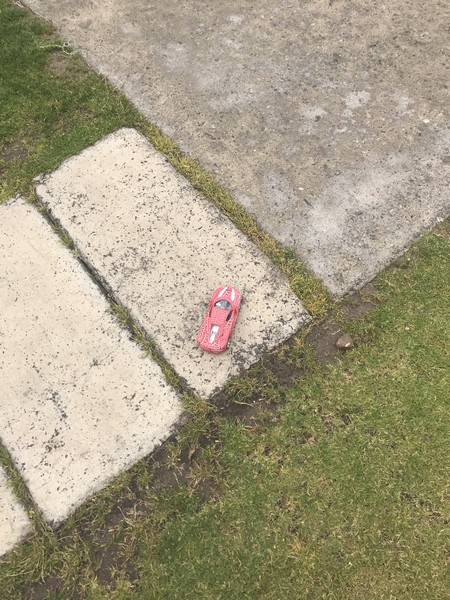RC: (198, 285, 245, 353)
